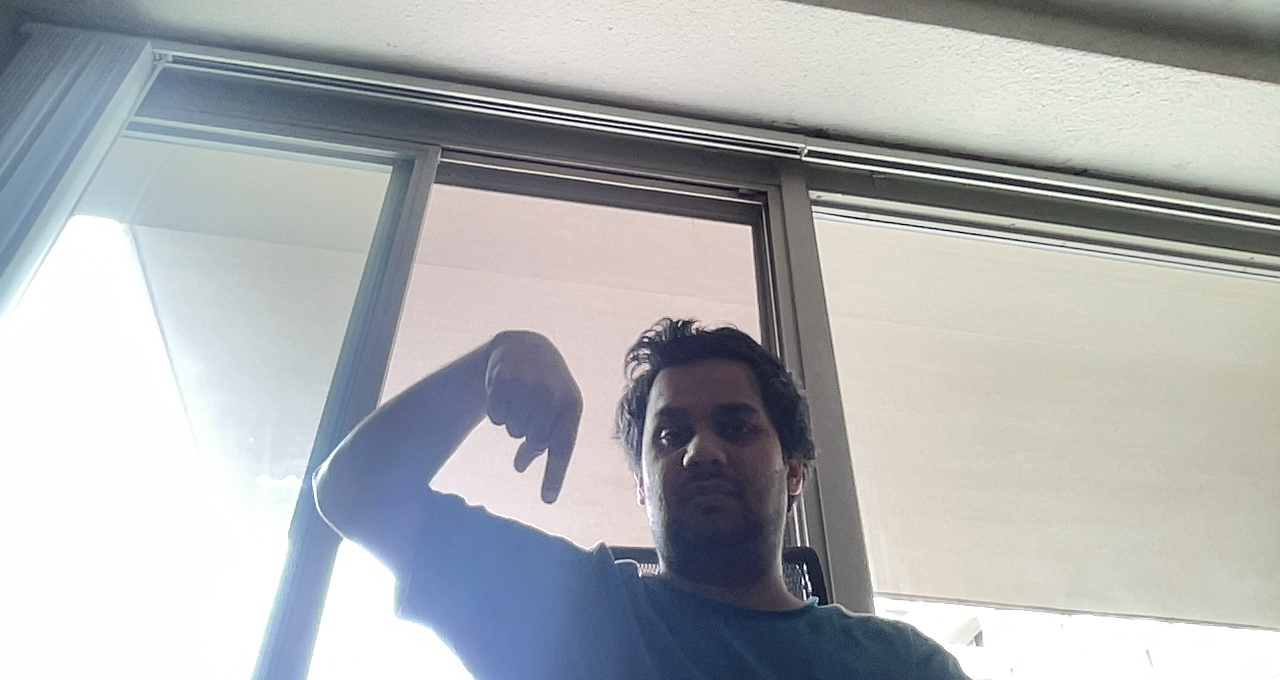fingerdown: (477, 325, 587, 513)
